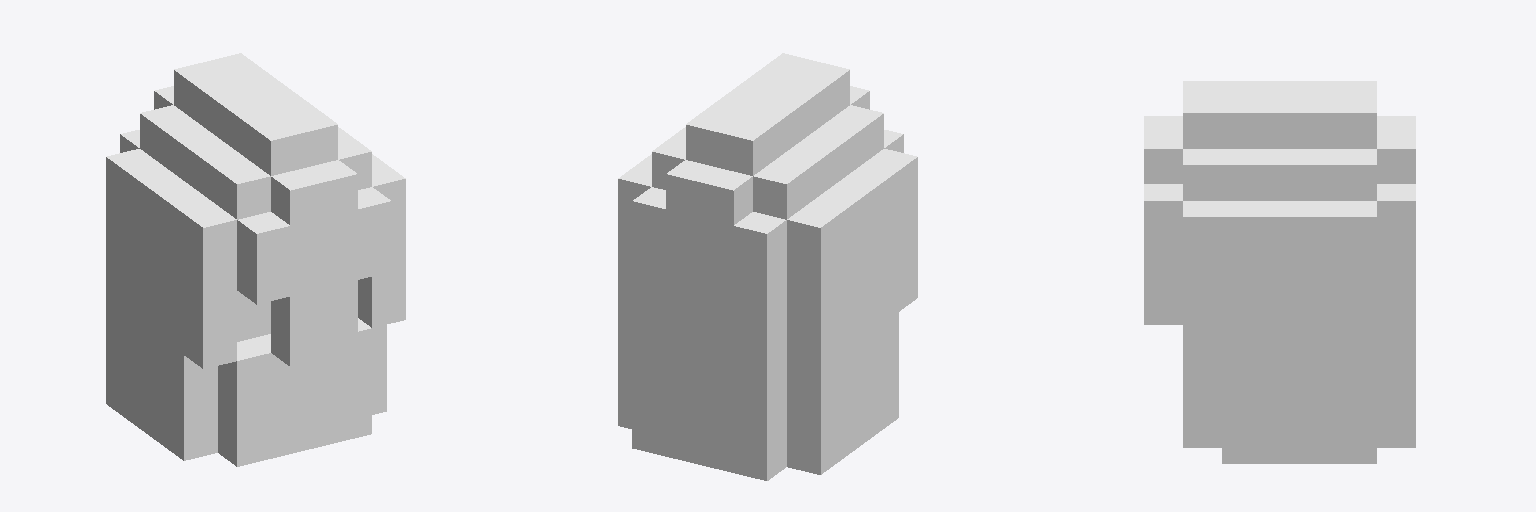
Rendered from char-245-helm_med_3b_du.obj.
The picture shows the model from 3 angles: view 1: azimuth 30°, elevation 25°; view 2: azimuth 150°, elevation 25°; view 3: azimuth 270°, elevation 25°; orthographic projection.
Parts seen in each view (by area): view 1: helm_med_3b_du; view 2: helm_med_3b_du; view 3: helm_med_3b_du.
Boxes of the visible parts, <box> form: helm_med_3b_du: <box>106,53,405,466</box>; helm_med_3b_du: <box>618,53,917,480</box>; helm_med_3b_du: <box>1144,81,1415,463</box>.
Bounding box in the file's own units: 0.6 × 0.9 × 0.7.